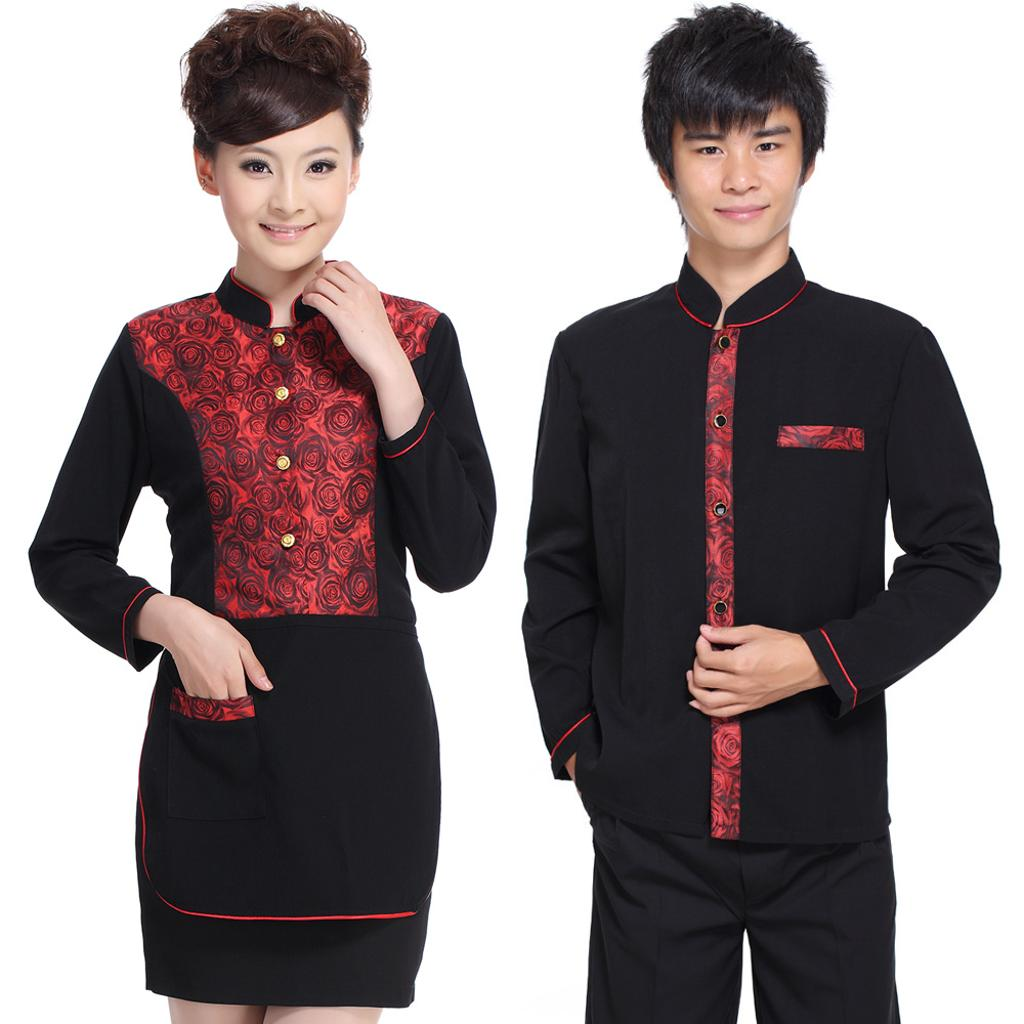face: (214, 94, 354, 268), (674, 76, 796, 252)
